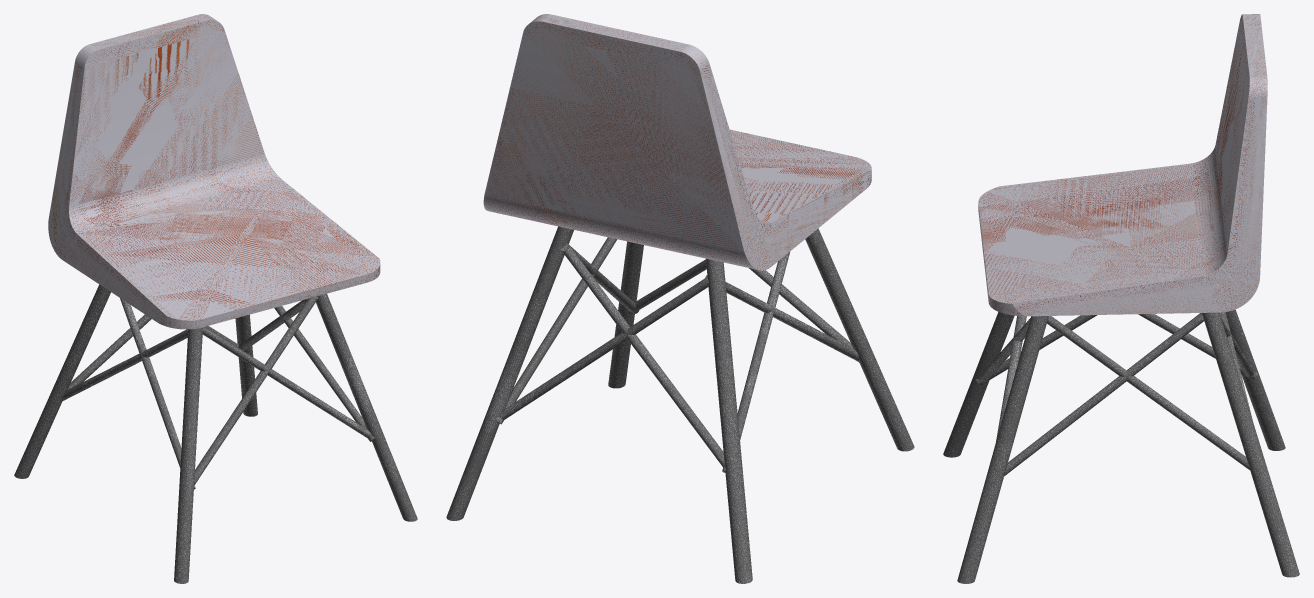
The model's file is x-leg chair.fbx.
3 views of the same model, side by side, from view 1: azimuth 30°, elevation 25°; view 2: azimuth 150°, elevation 25°; view 3: azimuth 270°, elevation 25° (orthographic). The views are drawn at different scales.
Visible parts, largest first — view 1: group_3, group_3.002, group_9, group_10, group_1, group_5, group_6, group_6.001, group_5.001, group_8.001, group_2, group_7 (+1 smaller); view 2: group_3, group_3.002, group_1, group_2, group_9, group_7, group_8, group_10, group_7.001, group_5.001, group_6.001, group_5 (+2 smaller); view 3: group_3, group_3.001, group_10, group_2, group_9, group_8.001, group_7.001, group_1, group_6, group_5.001, group_6.001, group_5.
Boxes of the visible parts, x1=… form: group_3: x1=69, y1=14, x2=380, y2=329; group_3.002: x1=48, y1=62, x2=166, y2=322; group_9: x1=174, y1=327, x2=202, y2=583; group_10: x1=316, y1=293, x2=417, y2=521; group_1: x1=14, y1=284, x2=110, y2=478; group_5: x1=194, y1=297, x2=317, y2=484; group_6: x1=202, y1=327, x2=372, y2=440; group_6.001: x1=120, y1=298, x2=195, y2=489; group_5.001: x1=62, y1=327, x2=204, y2=400; group_8.001: x1=274, y1=306, x2=374, y2=441; group_2: x1=235, y1=314, x2=257, y2=416; group_7: x1=68, y1=314, x2=151, y2=389; group_3: x1=483, y1=14, x2=871, y2=269; group_3.002: x1=700, y1=63, x2=871, y2=270; group_1: x1=706, y1=258, x2=752, y2=583; group_2: x1=446, y1=226, x2=573, y2=520; group_9: x1=805, y1=228, x2=914, y2=451; group_7: x1=562, y1=245, x2=724, y2=467; group_8: x1=497, y1=278, x2=708, y2=423; group_10: x1=608, y1=241, x2=643, y2=388; group_7.001: x1=494, y1=237, x2=617, y2=424; group_5.001: x1=722, y1=251, x2=790, y2=472; group_6.001: x1=705, y1=275, x2=859, y2=361; group_5: x1=749, y1=268, x2=859, y2=362; group_3: x1=978, y1=14, x2=1267, y2=316; group_3.001: x1=1012, y1=99, x2=1267, y2=316; group_10: x1=957, y1=316, x2=1048, y2=583; group_2: x1=1202, y1=312, x2=1299, y2=577; group_9: x1=943, y1=312, x2=1014, y2=457; group_8.001: x1=1004, y1=313, x2=1203, y2=476; group_7.001: x1=1047, y1=316, x2=1249, y2=469; group_1: x1=1225, y1=309, x2=1285, y2=450; group_6: x1=996, y1=316, x2=1026, y2=441; group_5.001: x1=1138, y1=314, x2=1257, y2=379; group_6.001: x1=975, y1=315, x2=1097, y2=384; group_5: x1=979, y1=318, x2=1030, y2=382.
Size of the model in its own units: 51.54 by 80 by 55.67.
